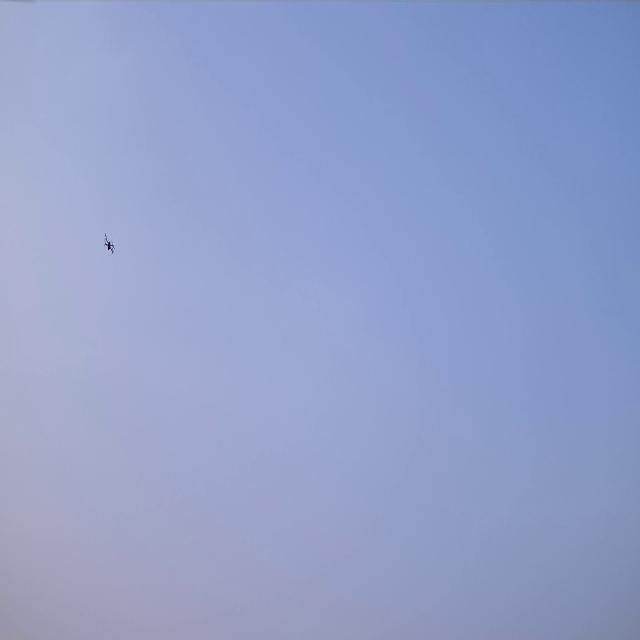UAV: (103, 232, 115, 256)
